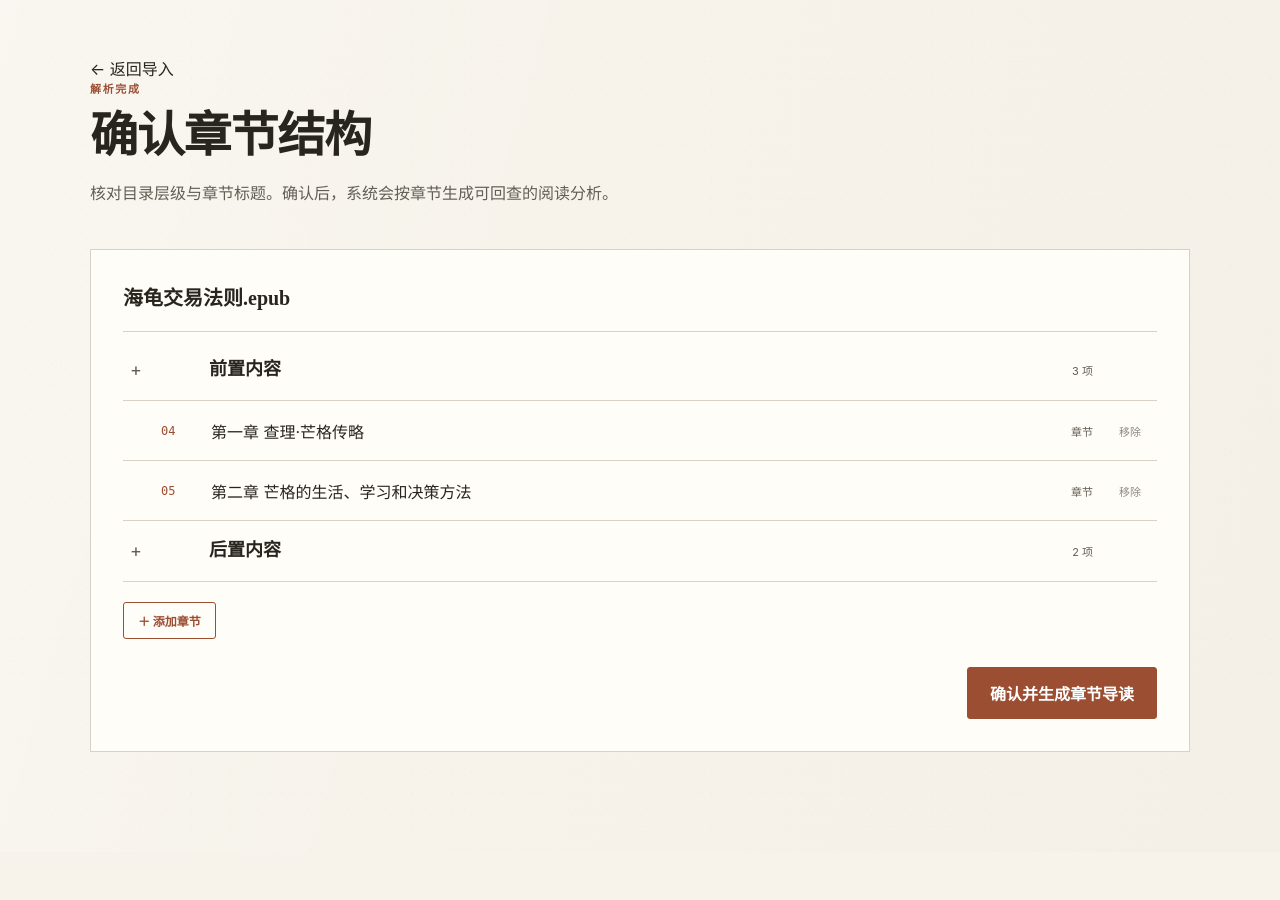
Test: ChapterEditor hierarchy › groups explicit non-body titles for previously parsed EPUBs
The width and height of the screenshot is (1280, 900).
Later steps or results of the test are not shown.
Expected: the field showing "第一章 查理·芒格传略" next to "04" is shown, left=209, top=413, right=1001, bottom=448
Expected: the field showing "查理·芒格年谱" is not shown
Click the button named "展开前置内容". click: (136, 370)
box: left=123, top=357, right=149, bottom=383
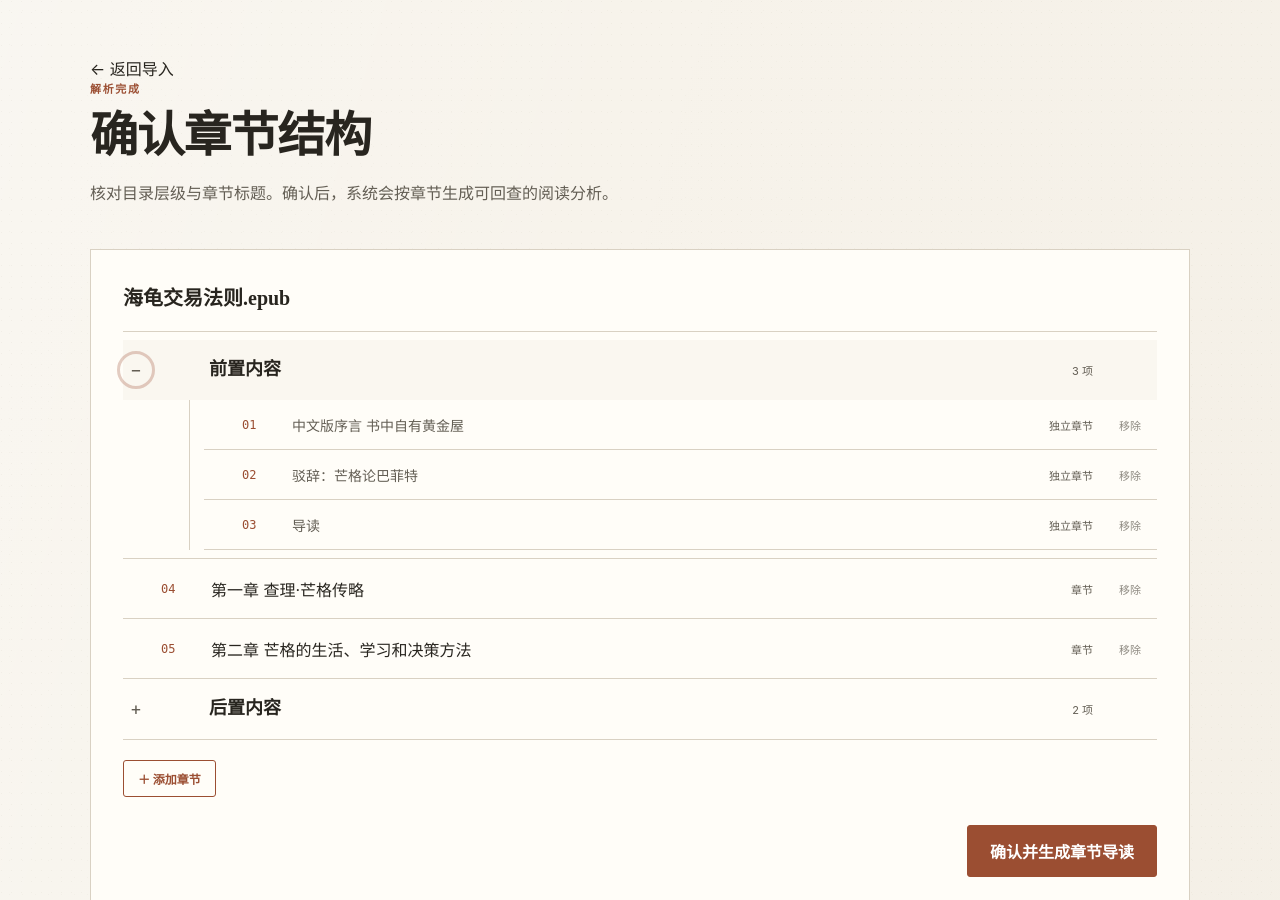
Click the button named "展开后置内容". click: (136, 709)
box: left=123, top=696, right=149, bottom=722
(page scrolled)
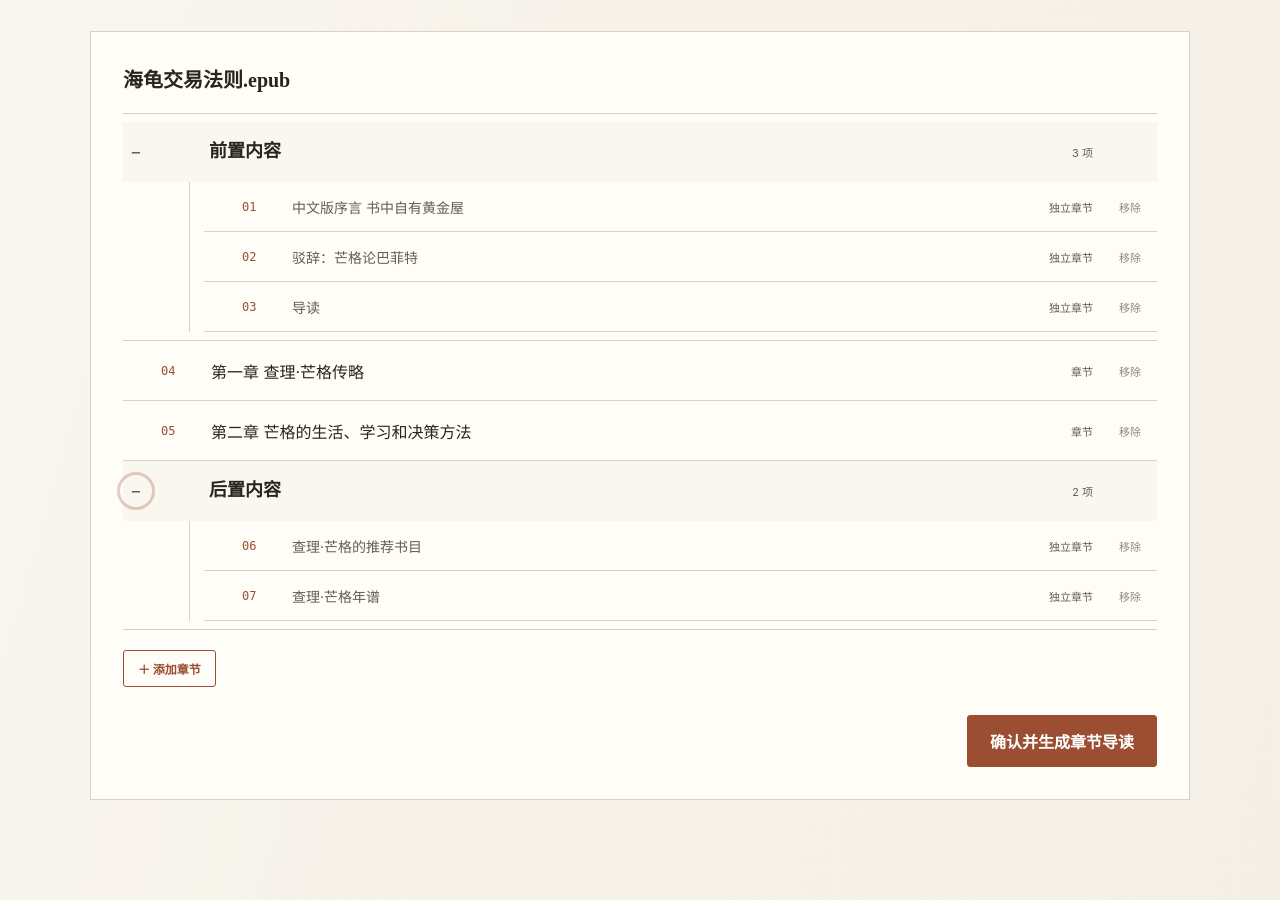
Result: the field showing "导读" next to "03" is shown at left=290, top=290, right=1001, bottom=322
Result: the field showing "查理·芒格年谱" next to "07" is shown at left=290, top=580, right=1001, bottom=612
